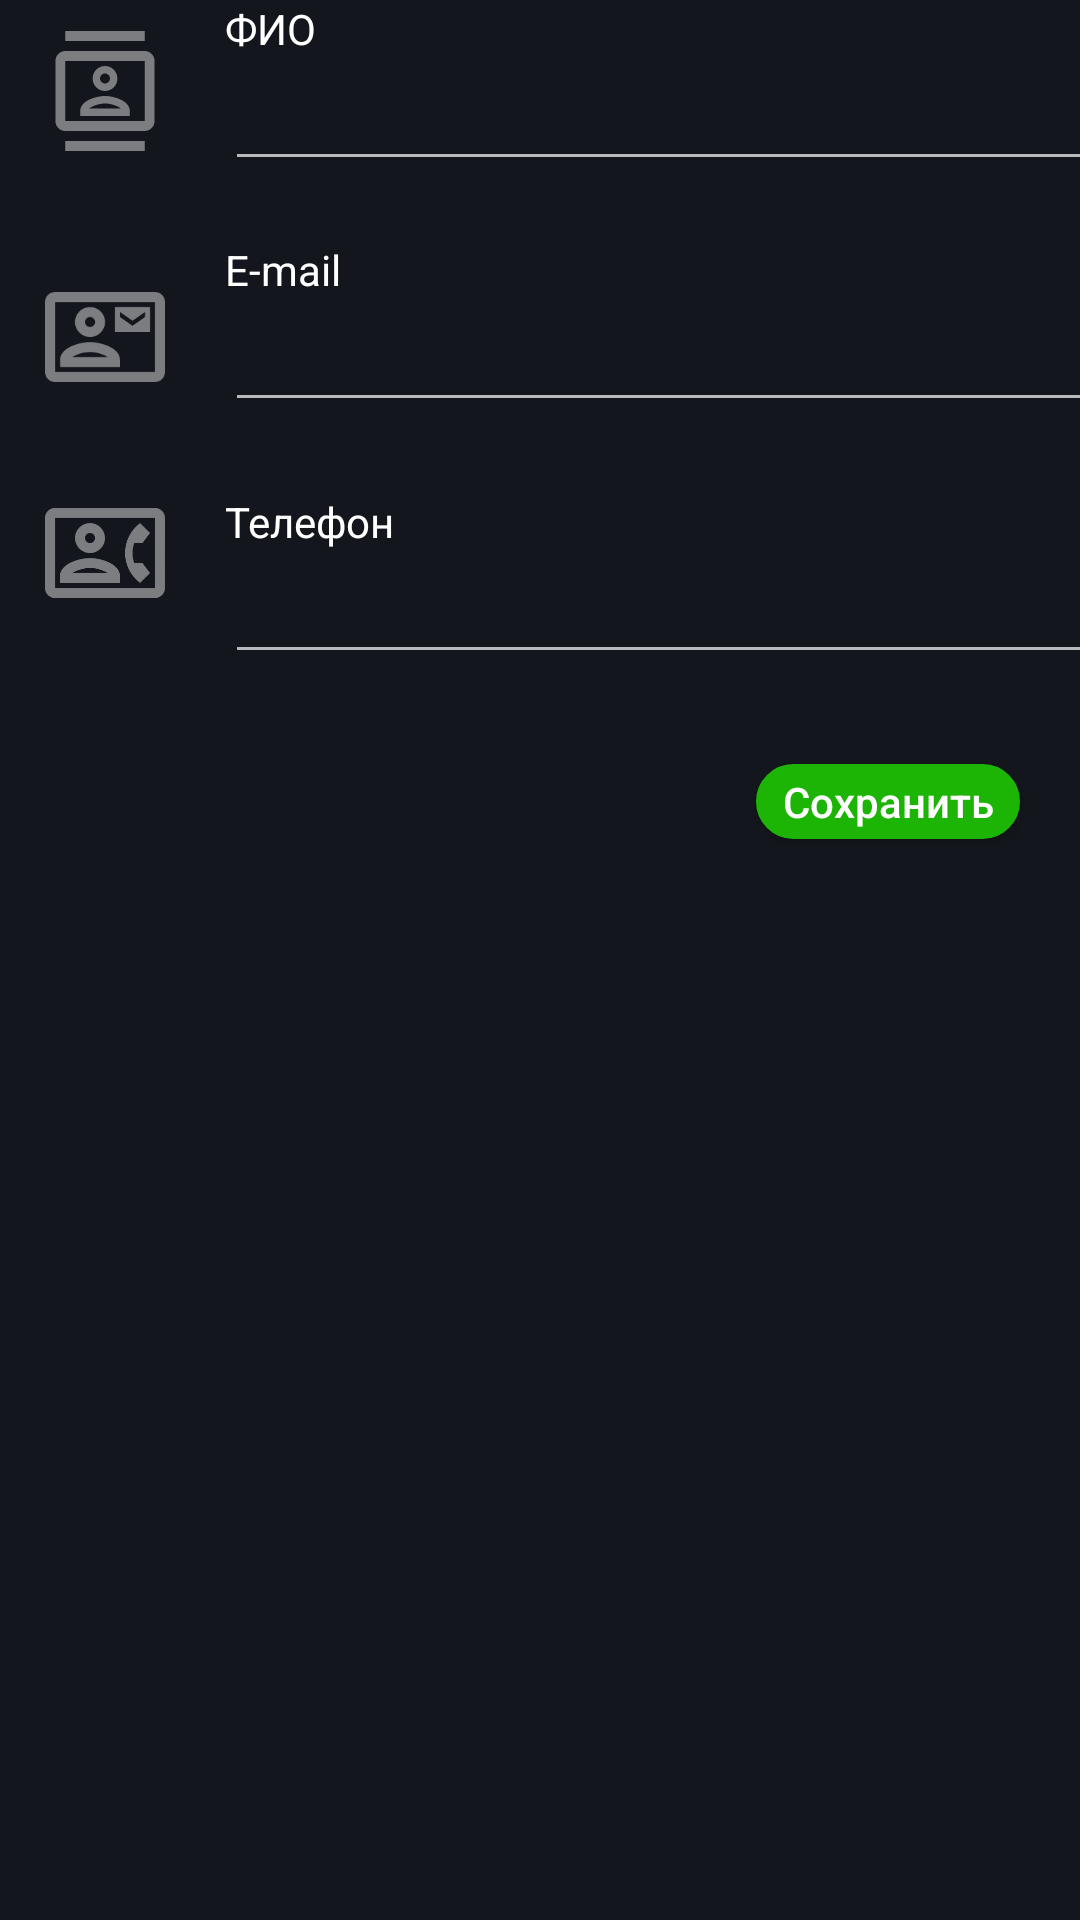

Icons on this 1080x1920 Android screen, each with the point to tap as (x=x, y=y):
personname: (x=105, y=91)
phone: (x=105, y=553)
